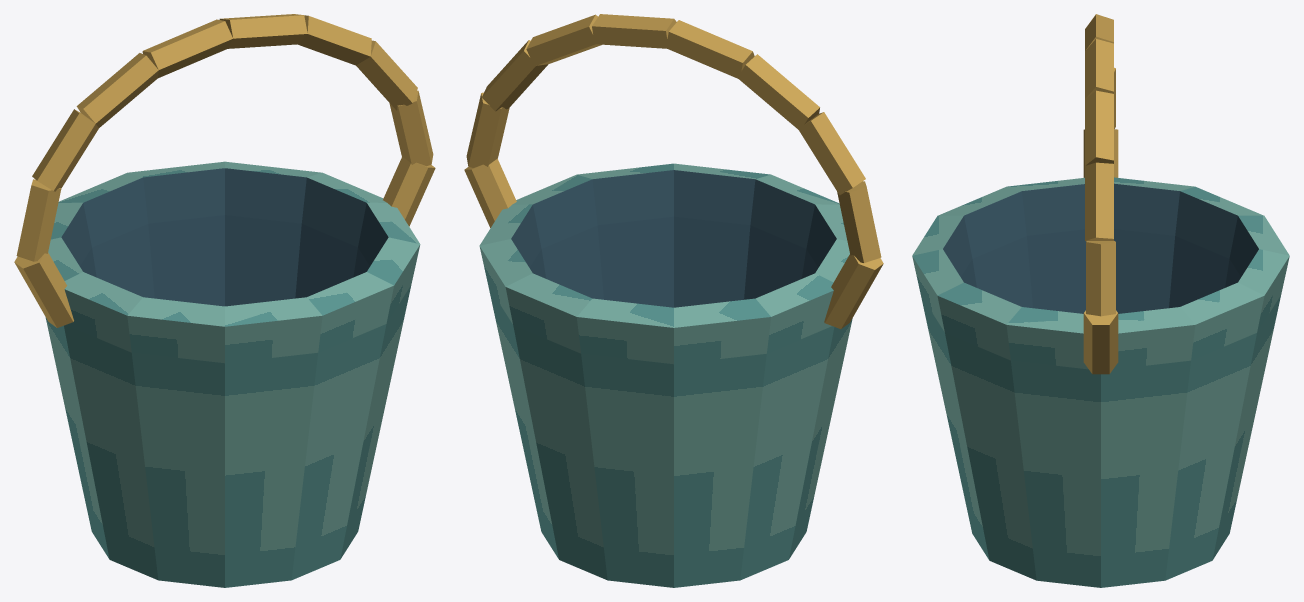
The model's file is bucket.glb.
3 renders of one model, left to right at view 1: azimuth 30°, elevation 25°; view 2: azimuth 150°, elevation 25°; view 3: azimuth 270°, elevation 25°, orthographic. The views are drawn at different scales.
Visible parts, largest first — view 1: bucket; view 2: bucket; view 3: bucket.
Part boxes in pixels (box(x1,y1,x2,y2)): bucket: box(14, 14, 435, 587); bucket: box(464, 14, 883, 587); bucket: box(912, 14, 1289, 587).
Bounding box in the file's own units: 0.3793 × 0.4462 × 0.308.
Materials: 1 (1 with a texture image).
